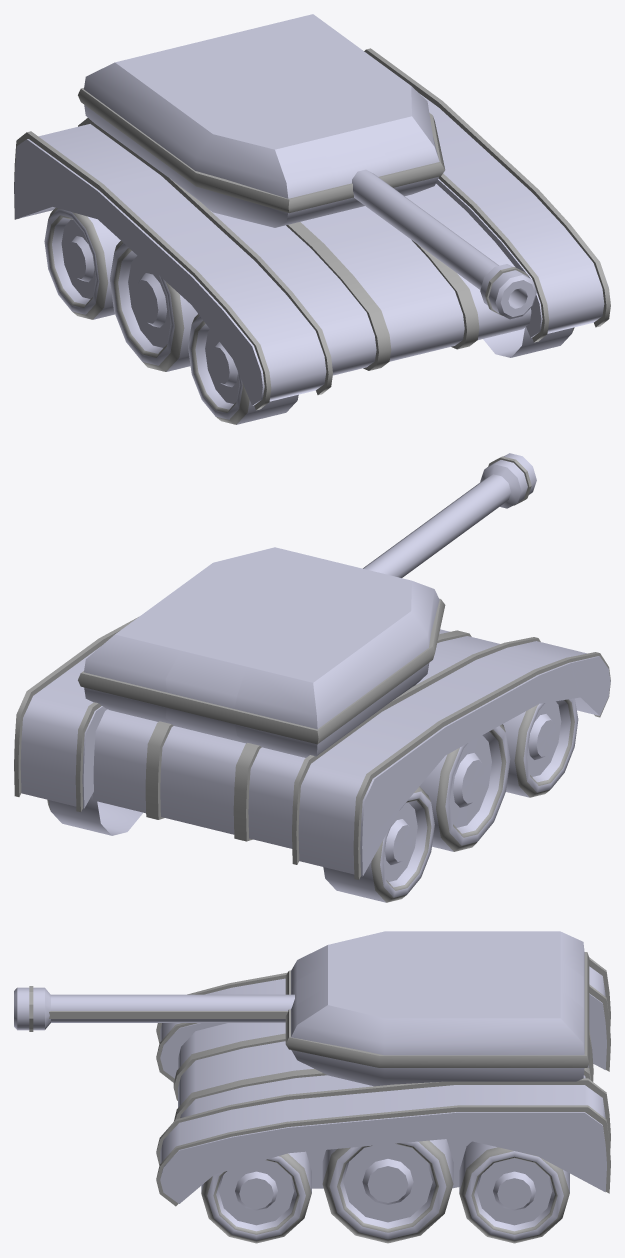
Rendered from tankTest.fbx.
The picture shows the model from 3 angles, top to bottom: view 1: azimuth 30°, elevation 25°; view 2: azimuth 150°, elevation 25°; view 3: azimuth 270°, elevation 25°; orthographic projection. The views are drawn at different scales.
Visible parts, largest first — view 1: pCube5, pCube16, pCube2, pCube15, pCylinder6, pCylinder11, pCylinder13, pCube10, pCylinder9, pCube18, pCube17, pCube12 (+4 smaller); view 2: pCube5, pCube16, pCube2, pCube15, pCylinder11, pCylinder6, pCube10, pCylinder13, pCylinder9, pCube18, pCube14, pCylinder12 (+4 smaller); view 3: pCube5, pCube15, pCylinder10, pCube2, pCylinder12, pCylinder8, pCylinder6, pCube10, pCube17, pCube16, pCube13, pCube6 (+4 smaller).
Boxes of the visible parts, box(x1,y1,x2,y2) form: pCube5: box(84, 14, 439, 227); pCube16: box(14, 124, 326, 405); pCube2: box(210, 184, 531, 375); pCube15: box(419, 93, 608, 337); pCylinder6: box(352, 169, 536, 319); pCylinder11: box(110, 241, 197, 371); pCylinder13: box(44, 207, 120, 319); pCube10: box(78, 88, 445, 213); pCylinder9: box(188, 314, 298, 424); pCube18: box(14, 131, 271, 410); pCube17: box(364, 48, 610, 327); pCube12: box(286, 222, 391, 370); pCube5: box(84, 547, 439, 757); pCube16: box(298, 641, 610, 876); pCube2: box(93, 629, 500, 848); pCube15: box(20, 646, 107, 808); pCylinder11: box(420, 724, 510, 851); pCylinder6: box(363, 453, 536, 577); pCube10: box(78, 598, 445, 744); pCylinder13: box(323, 786, 434, 902); pCylinder9: box(503, 698, 578, 797); pCube18: box(353, 652, 610, 879); pCube14: box(292, 637, 540, 864); pCylinder12: box(47, 794, 142, 835); pCube5: box(291, 931, 584, 1086); pCube15: box(160, 1085, 606, 1203); pCylinder10: box(322, 1139, 453, 1243); pCube2: box(178, 1023, 588, 1188); pCylinder12: box(459, 1141, 569, 1243); pCylinder8: box(201, 1151, 311, 1243); pCylinder6: box(14, 987, 294, 1030); pCube10: box(285, 952, 589, 1067); pCube17: box(156, 1105, 610, 1206); pCube16: box(160, 966, 606, 1078); pCube13: box(156, 1078, 610, 1165); pCube6: box(49, 1011, 288, 1018).
Bounding box in the file's own units: 1.85 × 1.12 × 3.06.
